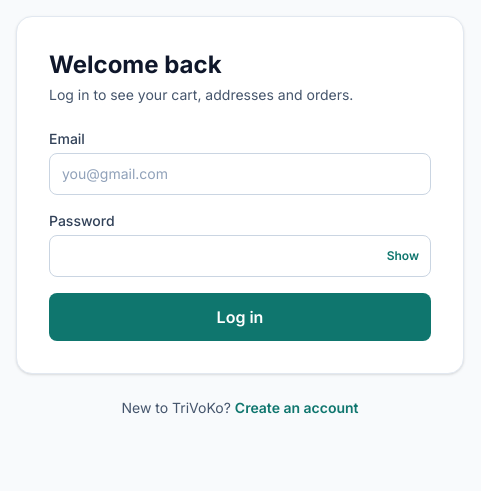
Scenario: LoginPage › shows the server answer for a wrong password
Type "ravi@trivoko.test" into the field labelled "Email".
click(240, 174); type("ravi@trivoko.test")  # box [49, 153, 431, 195]
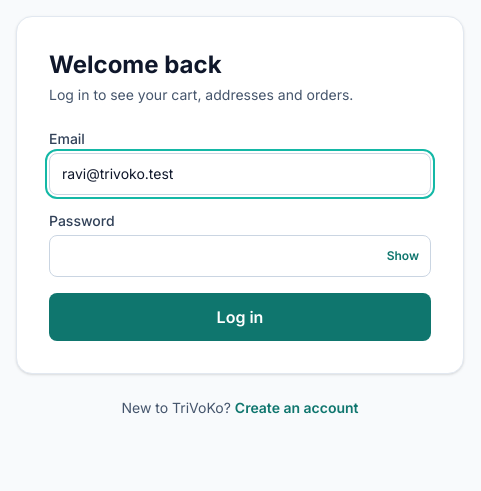
Type "not-the-password" into the password field labelled "Password".
click(240, 256); type("not-the-password")  # box [49, 235, 431, 277]
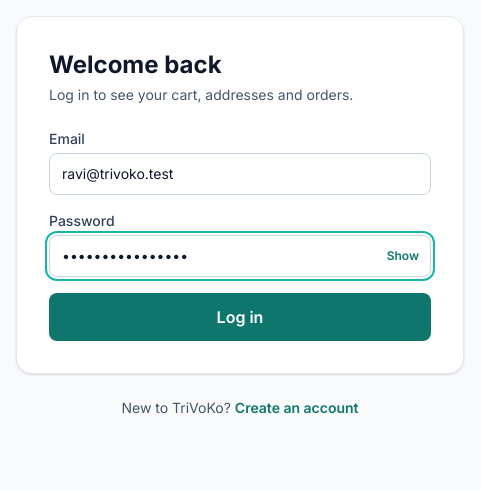
Click the button "Log in".
click(240, 317)  # box [49, 293, 431, 341]
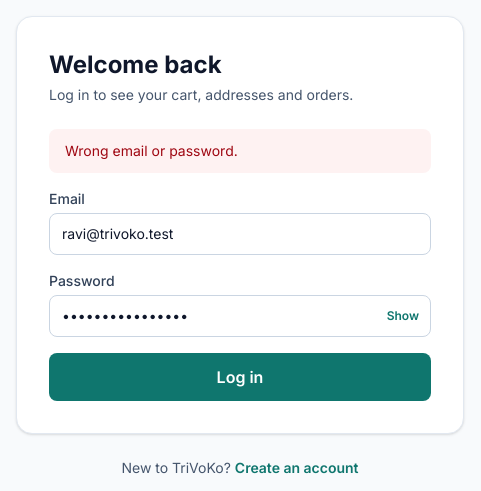
Now the message reads "Wrong email or password.", box [65, 142, 238, 159]
